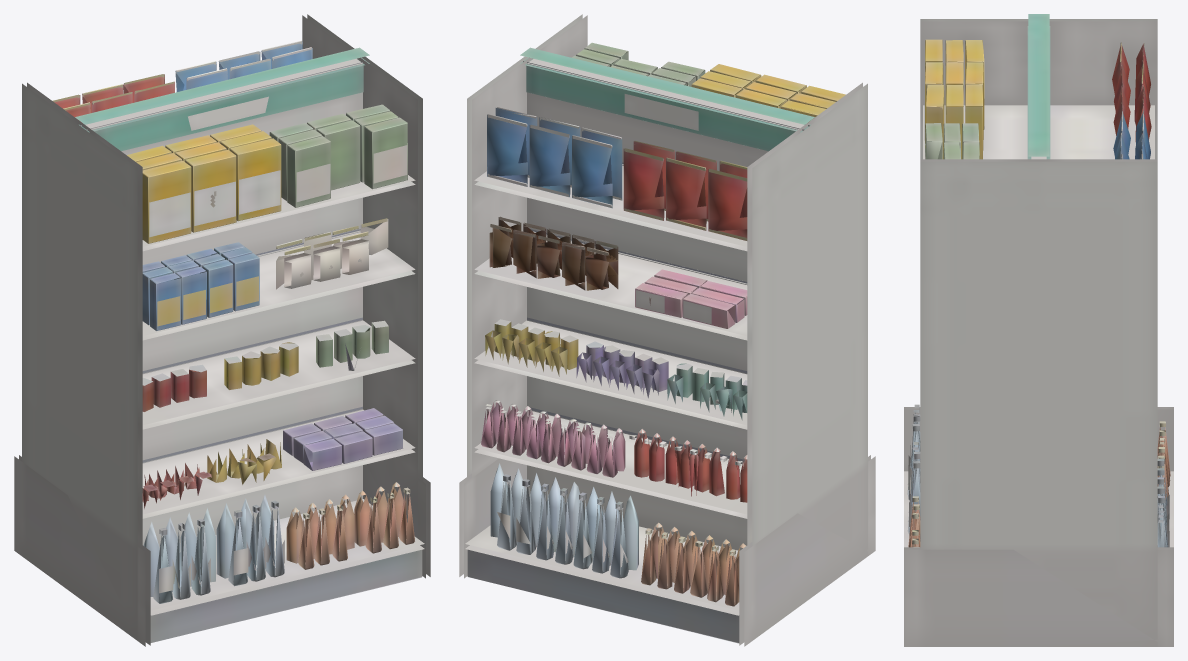
Rendered from grocery-shelf.glb.
The picture shows the model from 3 angles, left to right: view 1: azimuth 30°, elevation 25°; view 2: azimuth 150°, elevation 25°; view 3: azimuth 270°, elevation 25°; orthographic projection. The views are drawn at different scales.
Parts seen in each view (by area): view 1: grocery-shelf_body; view 2: grocery-shelf_body; view 3: grocery-shelf_body.
Part boxes in pixels (<box>): grocery-shelf_body: <box>14,14,430,646</box>; grocery-shelf_body: <box>459,14,875,646</box>; grocery-shelf_body: <box>904,14,1173,646</box>.
Bounding box in the file's own units: 1.25 × 2 × 0.9957.
1 material, 1 textured.
